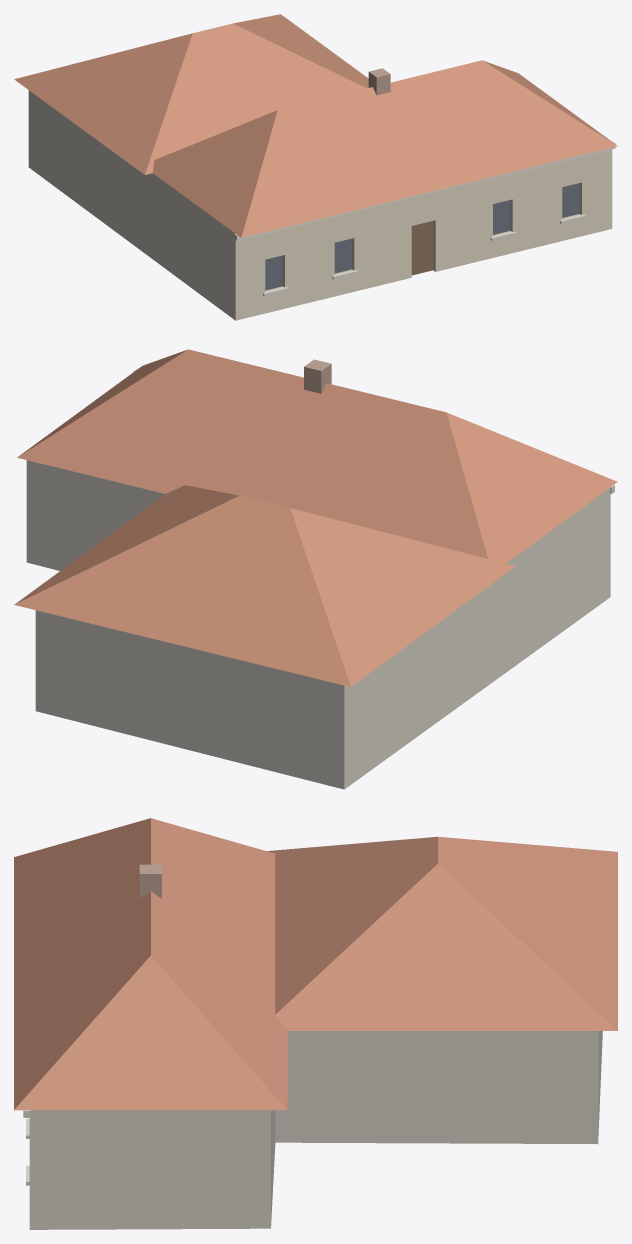
3 renders of one model, top to bottom at view 1: azimuth 30°, elevation 25°; view 2: azimuth 150°, elevation 25°; view 3: azimuth 270°, elevation 25°, orthographic. The views are drawn at different scales.
Visible parts, largest first — view 1: CP_257_Masonry, CP_257_Roof, CP_257_WingRoof_Rear_Wing, CP_257_Cornice_eave_0, CP_257_Chimney_0; view 2: CP_257_Masonry, CP_257_Roof, CP_257_WingRoof_Rear_Wing, CP_257_Chimney_0; view 3: CP_257_Roof, CP_257_Masonry, CP_257_WingRoof_Rear_Wing, CP_257_Chimney_0.
Part boxes in pixels (x1,y1,x2,y2): CP_257_Masonry: (28, 90, 612, 320); CP_257_Roof: (153, 60, 617, 237); CP_257_WingRoof_Rear_Wing: (14, 14, 368, 174); CP_257_Cornice_eave_0: (234, 141, 615, 240); CP_257_Chimney_0: (368, 68, 390, 95); CP_257_Masonry: (26, 460, 610, 789); CP_257_Roof: (17, 349, 617, 563); CP_257_WingRoof_Rear_Wing: (14, 485, 515, 686); CP_257_Chimney_0: (304, 359, 331, 393); CP_257_Roof: (14, 818, 287, 1110); CP_257_Masonry: (29, 1031, 602, 1229); CP_257_WingRoof_Rear_Wing: (267, 836, 617, 1030); CP_257_Chimney_0: (139, 864, 161, 898).
Bounding box in the file's own units: 19.48 × 8.2 × 19.2.
